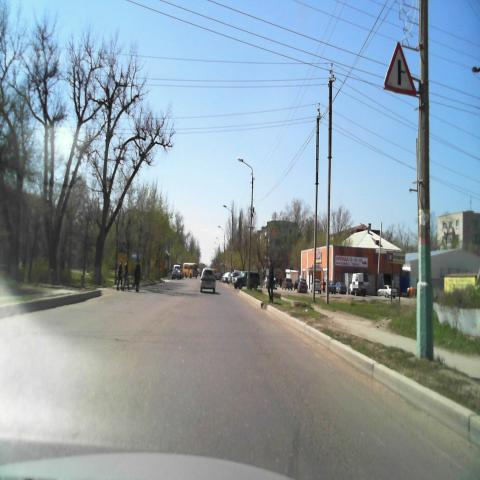2_3_2: (382, 41, 418, 97)
